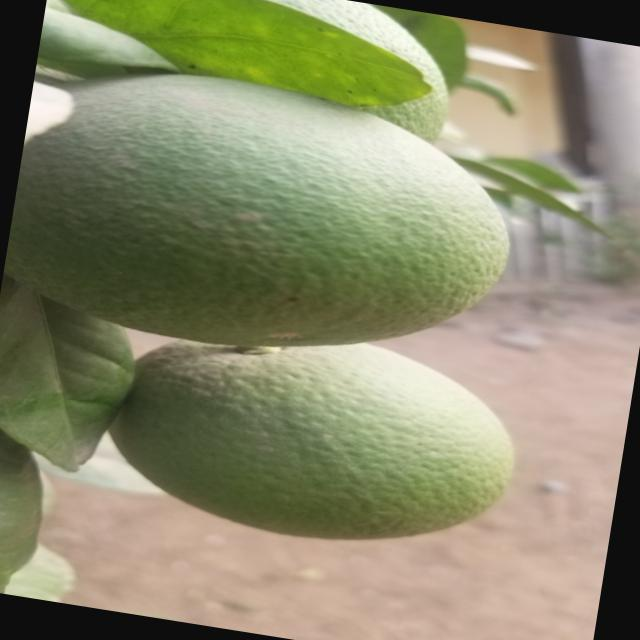Unripe: (0, 52, 519, 377), (112, 312, 517, 566), (37, 0, 454, 127)
